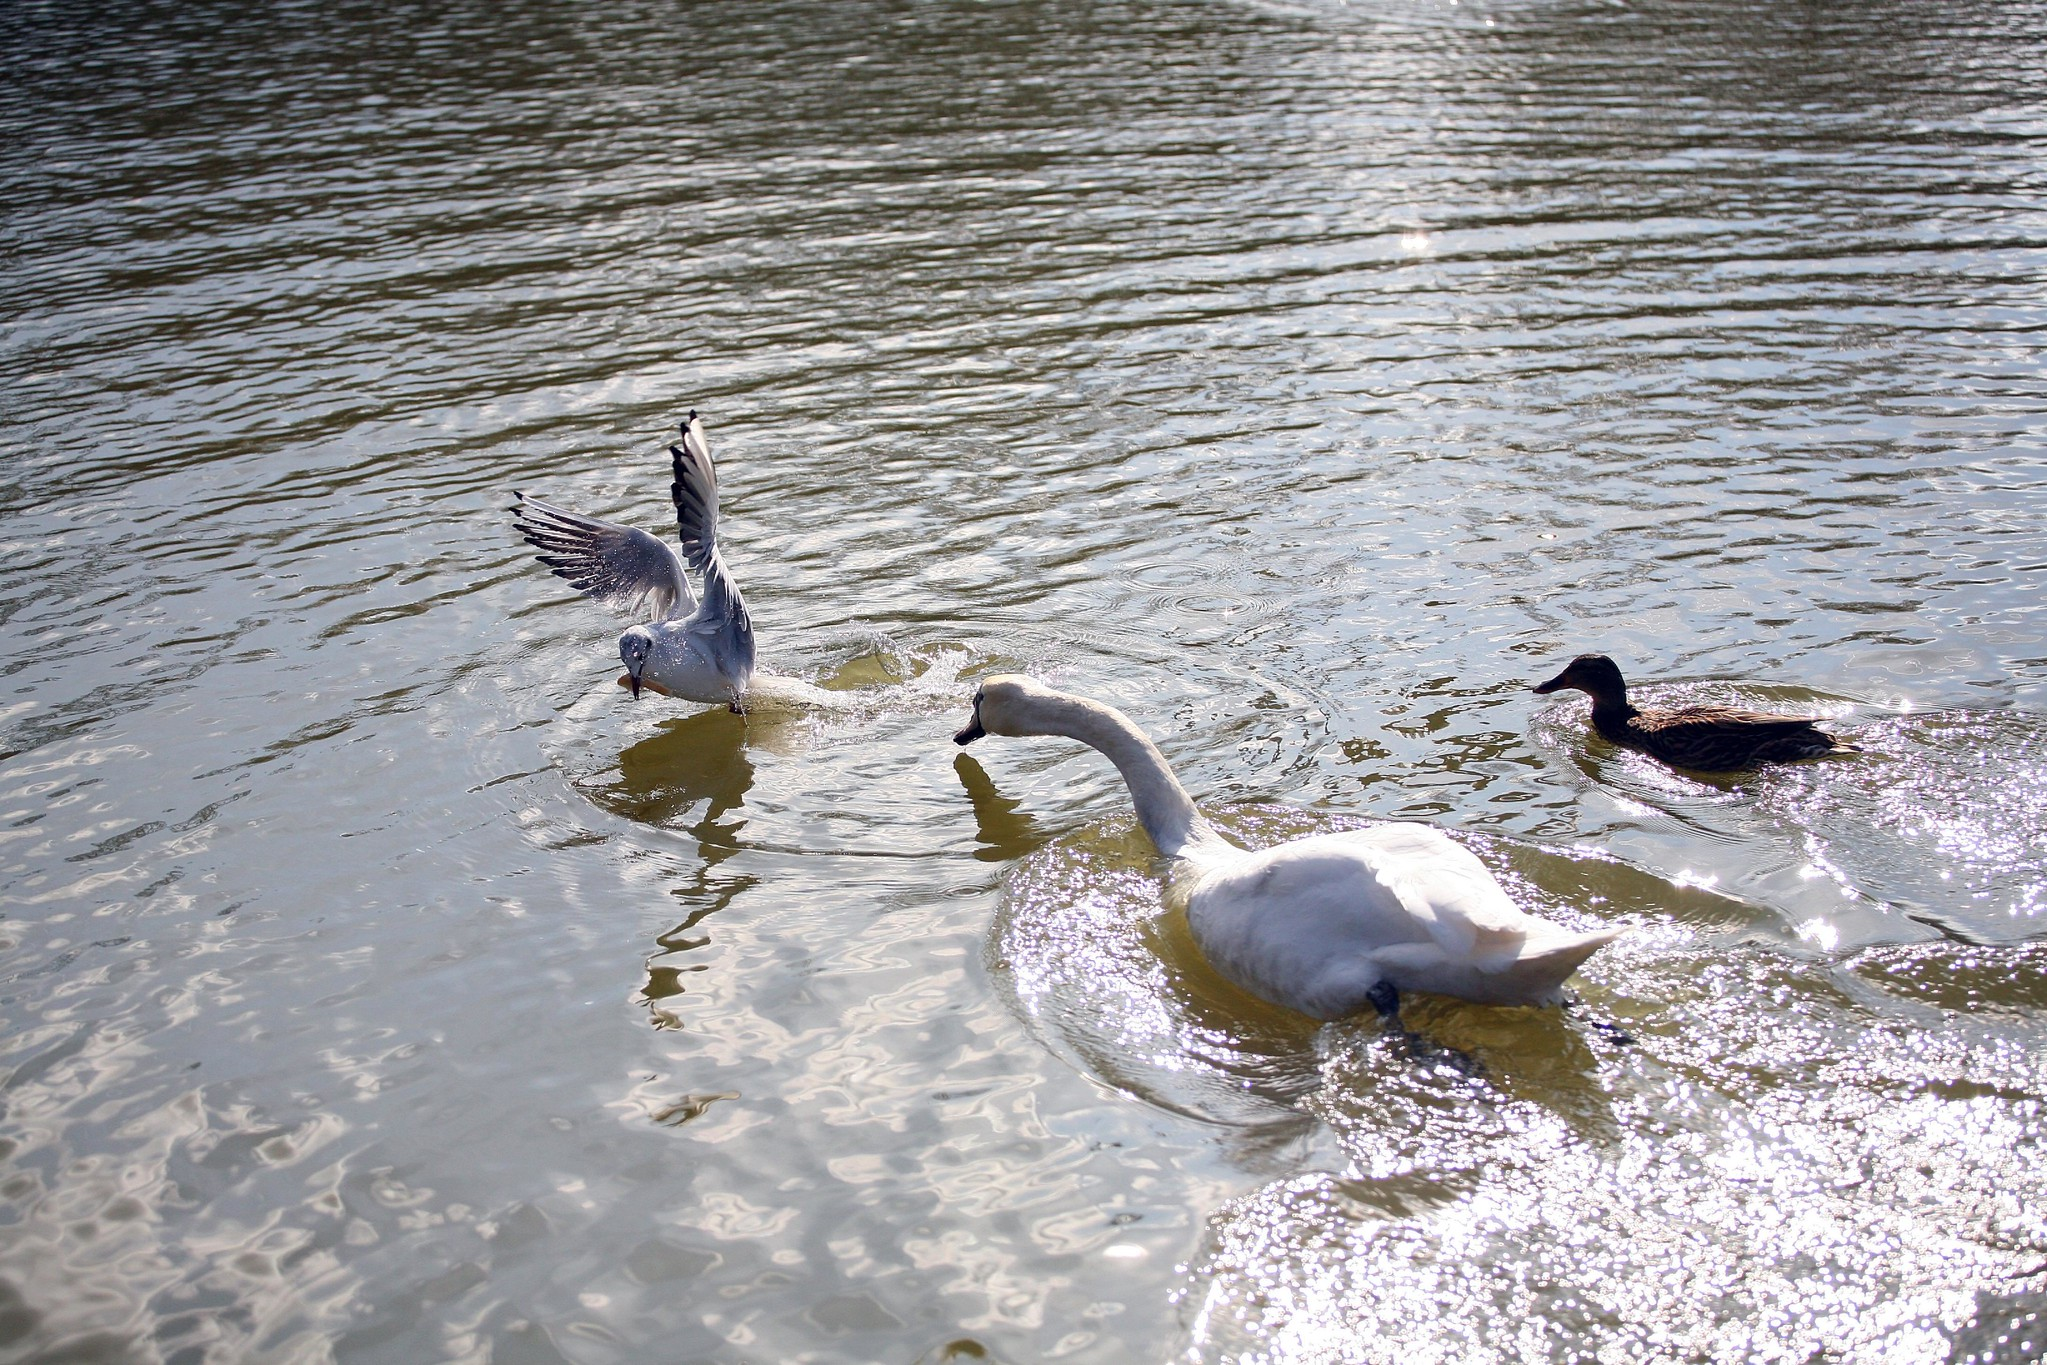bird: (941, 658, 1557, 1060), (506, 408, 844, 742), (1529, 641, 1854, 801)
